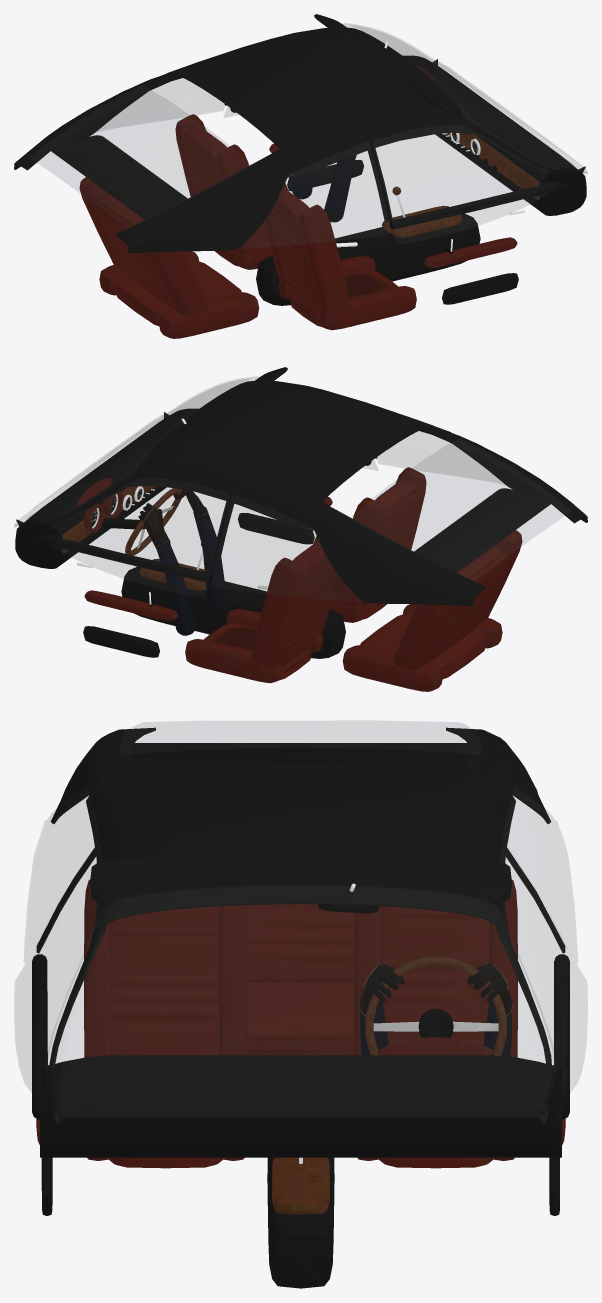
The model's file is ag_aurelia_cockpit_low.glb.
The picture shows the model from 3 angles, top to bottom: view 1: azimuth 30°, elevation 25°; view 2: azimuth 150°, elevation 25°; view 3: azimuth 270°, elevation 25°; orthographic projection. The views are drawn at different scales.
Parts seen in each view (by area): view 1: cockpit_shell, cabin_glass, window_R, hands; view 2: cockpit_shell, cabin_glass, window_L, hands, steering_wheel; view 3: cockpit_shell, cabin_glass, window_L, window_R, steering_wheel, hands.
Part boxes in pixels (x1=…): cockpit_shell: x1=14, y1=14, x2=586, y2=338; cabin_glass: x1=31, y1=23, x2=587, y2=248; window_R: x1=372, y1=125, x2=551, y2=244; hands: x1=292, y1=154, x2=356, y2=222; cockpit_shell: x1=15, y1=367, x2=587, y2=691; cabin_glass: x1=14, y1=376, x2=570, y2=601; window_L: x1=50, y1=478, x2=229, y2=597; hands: x1=138, y1=489, x2=227, y2=635; steering_wheel: x1=125, y1=488, x2=182, y2=555; cockpit_shell: x1=32, y1=727, x2=569, y2=1288; cabin_glass: x1=24, y1=721, x2=577, y2=1123; window_L: x1=500, y1=842, x2=587, y2=1122; window_R: x1=14, y1=842, x2=101, y2=1122; steering_wheel: x1=365, y1=956, x2=506, y2=1055; hands: x1=359, y1=962, x2=512, y2=1056.
Size of the model in its own units: 2.29 by 1.11 by 1.57.
Materials: 4 (2 with a texture image).
